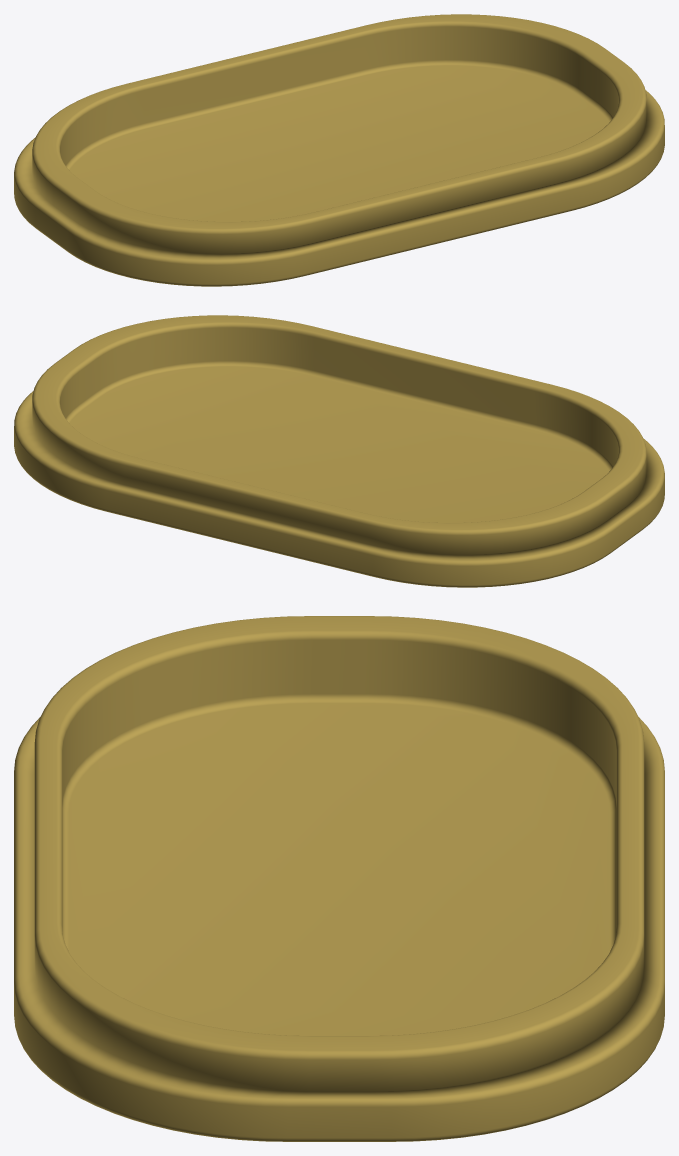
The model's file is Burger2.glb.
The picture shows the model from 3 angles, top to bottom: view 1: azimuth 30°, elevation 25°; view 2: azimuth 150°, elevation 25°; view 3: azimuth 270°, elevation 25°; orthographic projection. The views are drawn at different scales.
Visible parts, largest first — view 1: Plane; view 2: Plane; view 3: Plane.
Part boxes in pixels (x1,y1,x2,y2): Plane: (14,14,664,286); Plane: (14,315,664,587); Plane: (14,616,664,1141).
Bounding box in the file's own units: 1.07 × 0.0883 × 0.6409.
